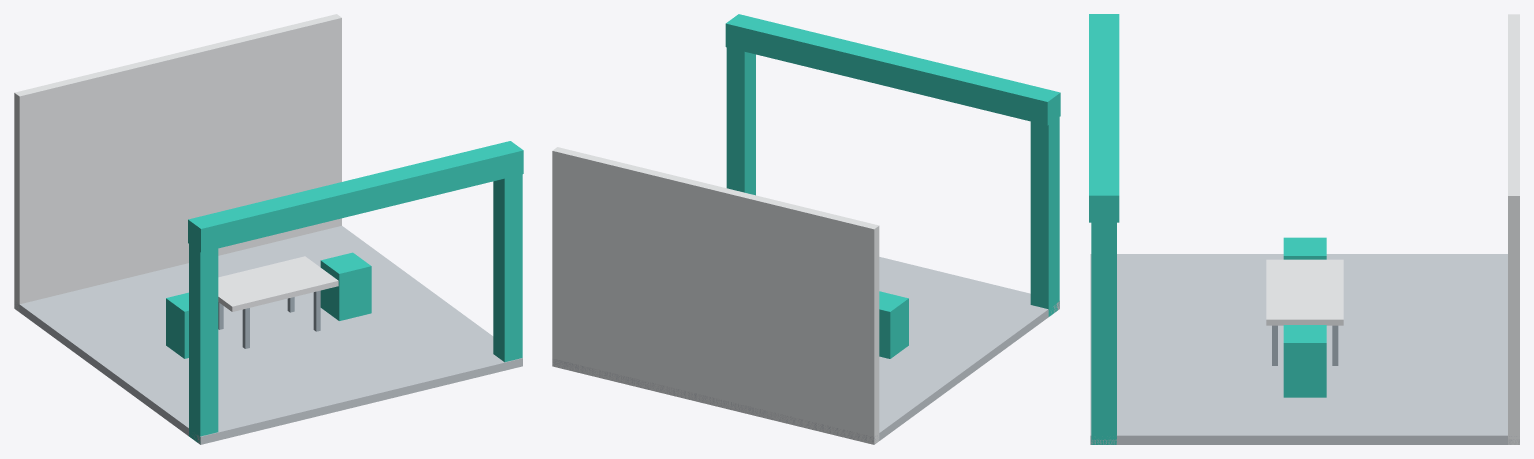
3 renders of one model, left to right at view 1: azimuth 30°, elevation 25°; view 2: azimuth 150°, elevation 25°; view 3: azimuth 270°, elevation 25°, orthographic. The views are drawn at different scales.
Parts seen in each view (by area): view 1: Exhibition Booth Concept; view 2: Exhibition Booth Concept; view 3: Exhibition Booth Concept.
Boxes of the visible parts, x1,y1,x2,y2 form: Exhibition Booth Concept: (14, 14, 523, 444); Exhibition Booth Concept: (552, 14, 1060, 444); Exhibition Booth Concept: (1089, 14, 1519, 444).
Bounding box in the file's own units: 5 × 3.2 × 5.02.
